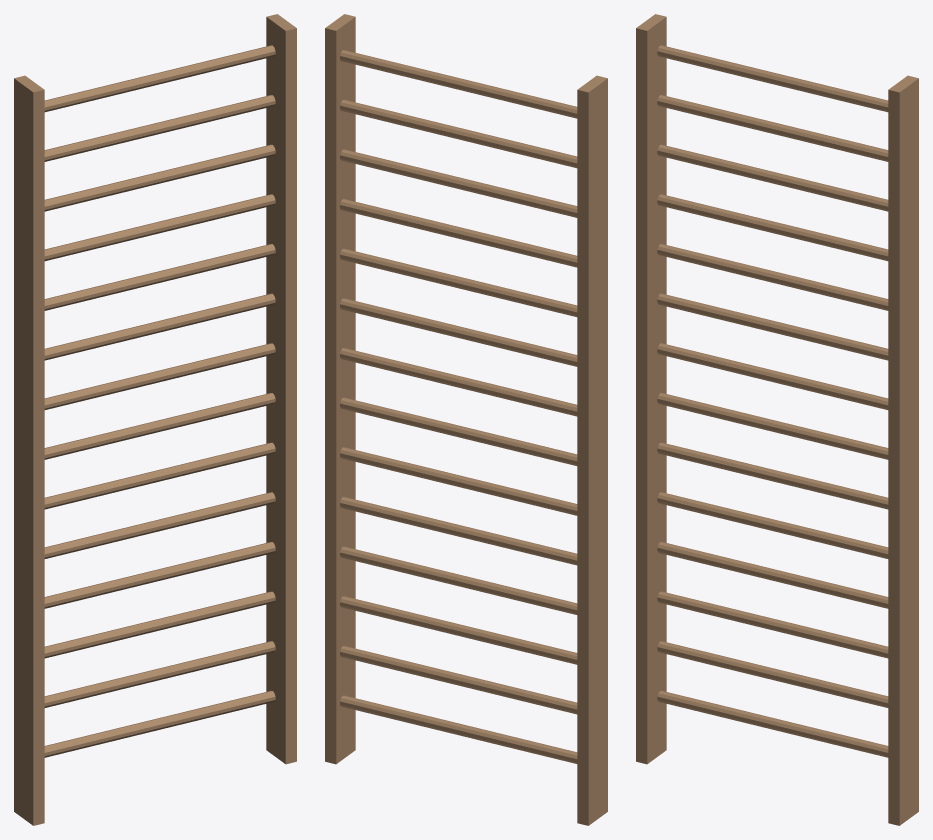
File: school.gym.wall_bars.glb
3 views of the same model, side by side, from view 1: azimuth 30°, elevation 25°; view 2: azimuth 150°, elevation 25°; view 3: azimuth 330°, elevation 25° (orthographic).
Visible parts, largest first — view 1: main__hardwood; view 2: main__hardwood; view 3: main__hardwood.
Boxes of the visible parts, <box> form: main__hardwood: <box>14,14,296,825</box>; main__hardwood: <box>325,14,607,825</box>; main__hardwood: <box>636,14,918,825</box>.
Size of the model in its own units: 0.94 by 2.5 by 0.12.
